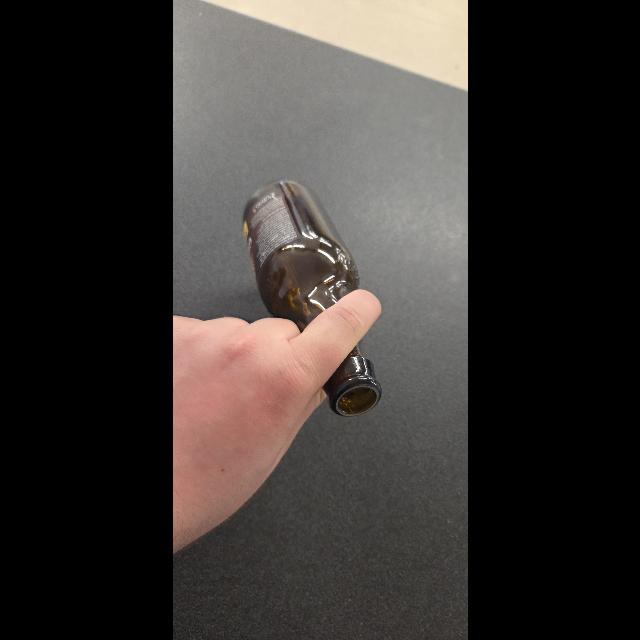Glass: (240, 176, 384, 420)
